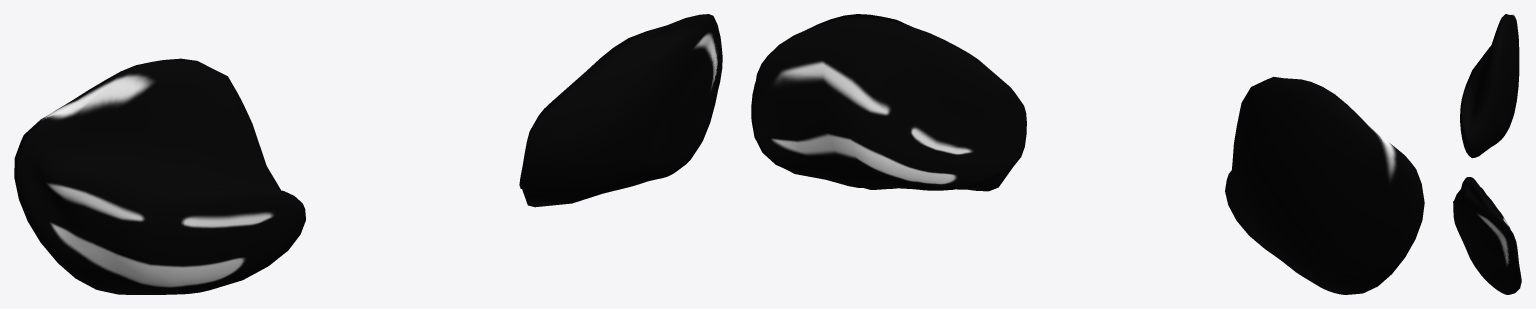
File: Punk.glb
The picture shows the model from 3 angles, left to right: view 1: azimuth 30°, elevation 25°; view 2: azimuth 150°, elevation 25°; view 3: azimuth 270°, elevation 25°; orthographic projection. The views are drawn at different scales.
Parts seen in each view (by area): view 1: Sphere.009; view 2: Sphere.009; view 3: Sphere.009.
Part boxes in pixels (x1,y1,x2,y2): Sphere.009: (14, 14, 722, 294); Sphere.009: (751, 14, 1424, 294); Sphere.009: (1453, 14, 1521, 294).
Size of the model in its own units: 0.3853 by 0.1203 by 0.0577.
Materials: 2 (2 with a texture image).
